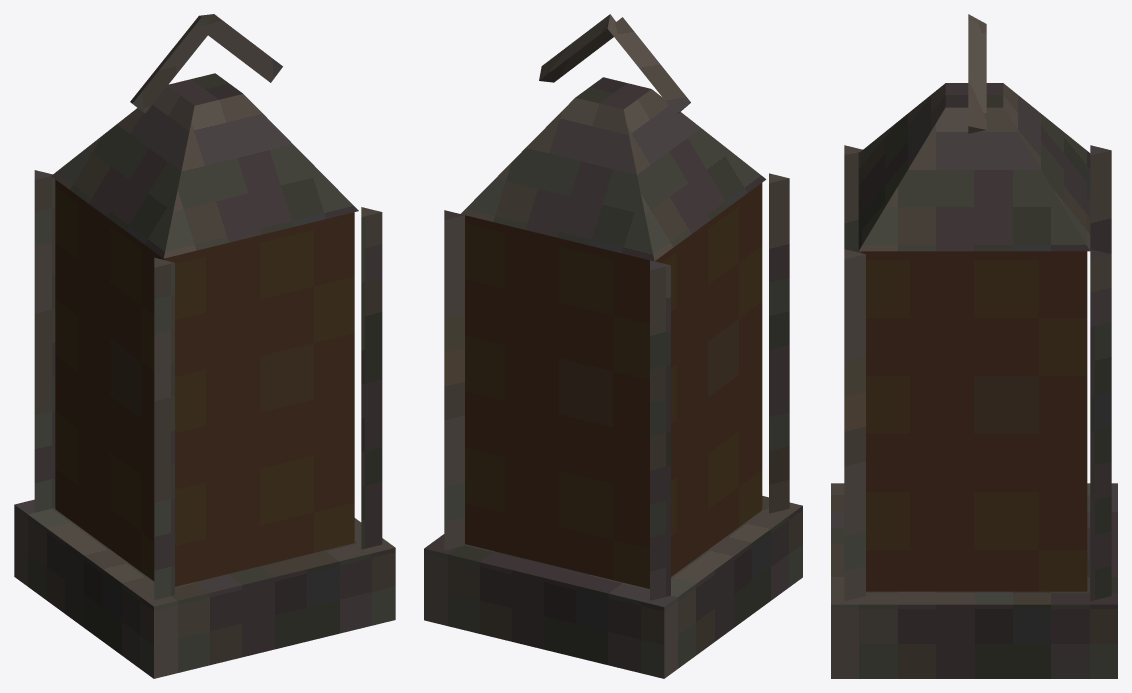
File: farol_suelo.obj
3 renders of one model, left to right at view 1: azimuth 30°, elevation 25°; view 2: azimuth 150°, elevation 25°; view 3: azimuth 270°, elevation 25°, orthographic. The views are drawn at different scales.
Visible parts, largest first — view 1: farol_suelo; view 2: farol_suelo; view 3: farol_suelo.
Boxes of the visible parts, x1,y1,x2,y2 form: farol_suelo: (14, 14, 395, 678); farol_suelo: (424, 14, 802, 678); farol_suelo: (831, 14, 1117, 678).
Size of the model in its own units: 0.14 by 0.3237 by 0.14.
2 materials, 2 textured.
